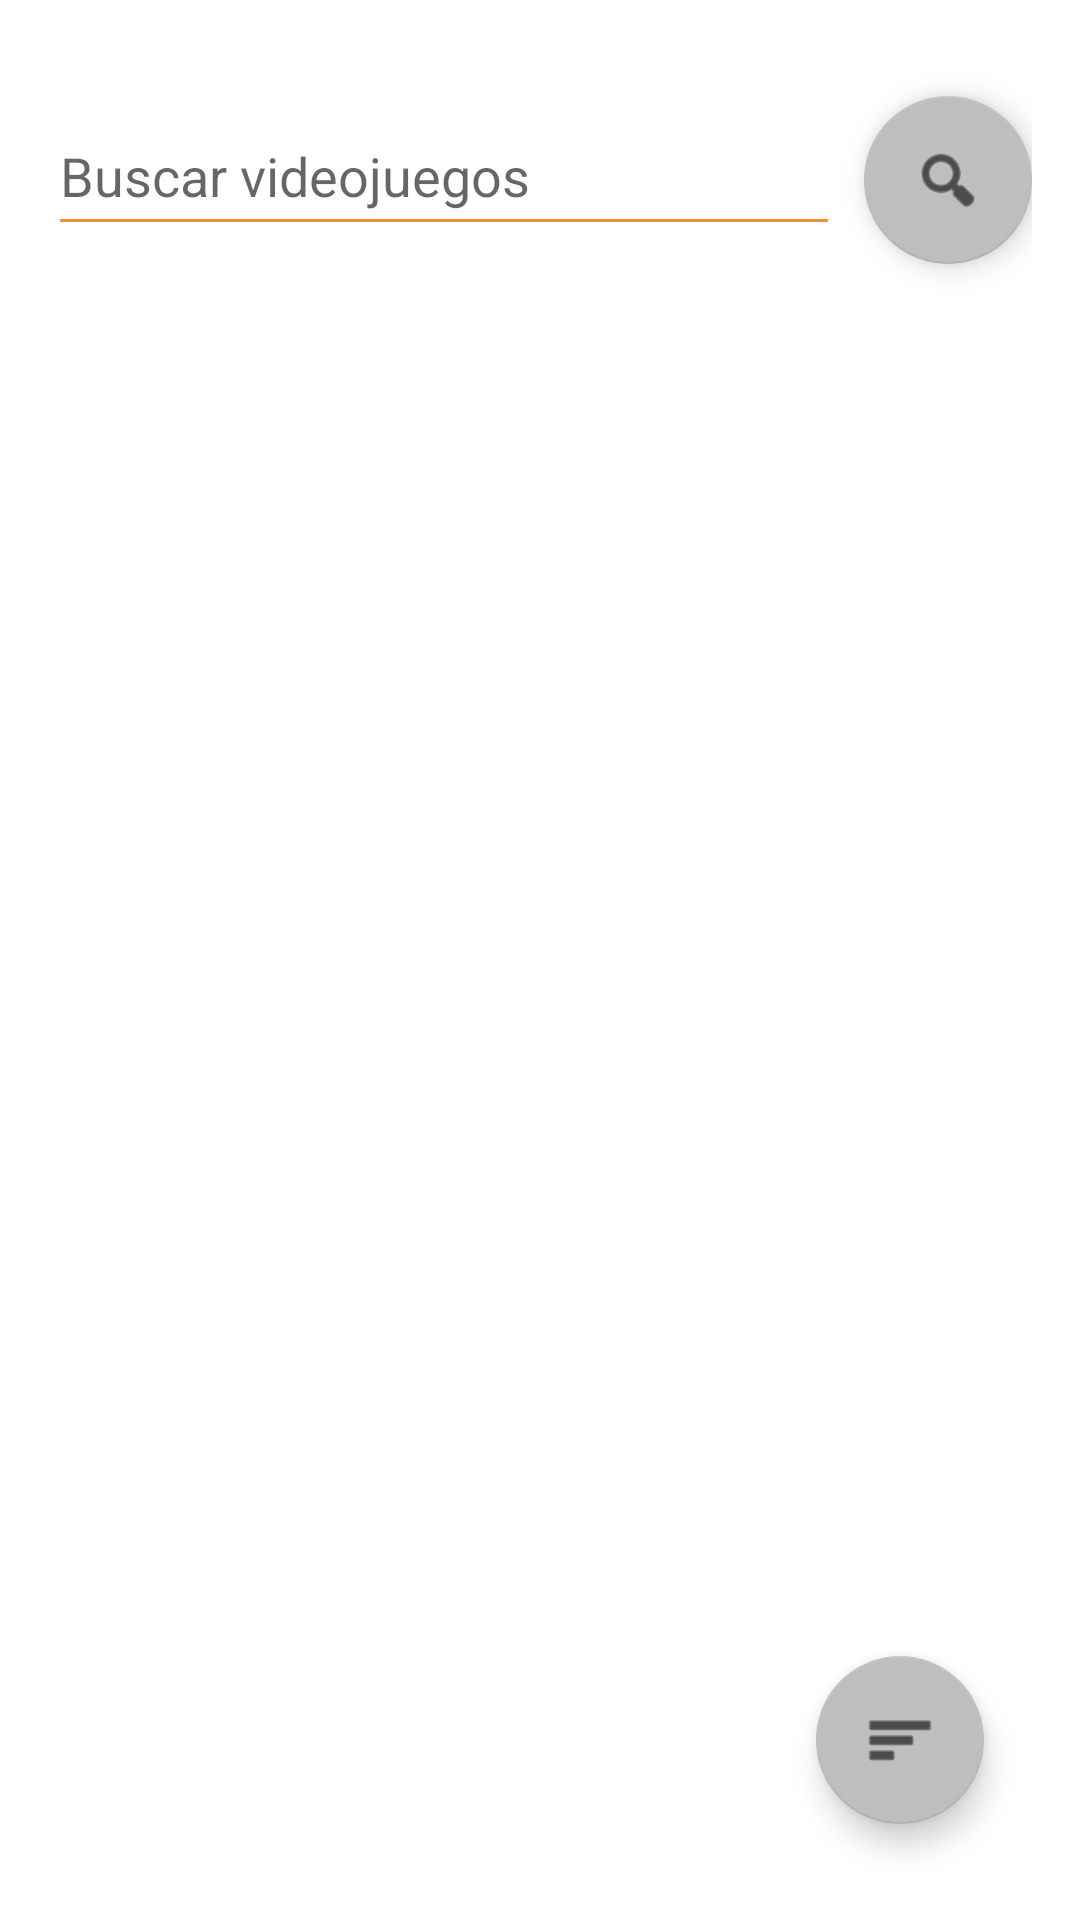

Where to tap for icons on this 1080px x 1920px app screen, as (x,y):
search: (948,180)
sort by size: (900,1740)
